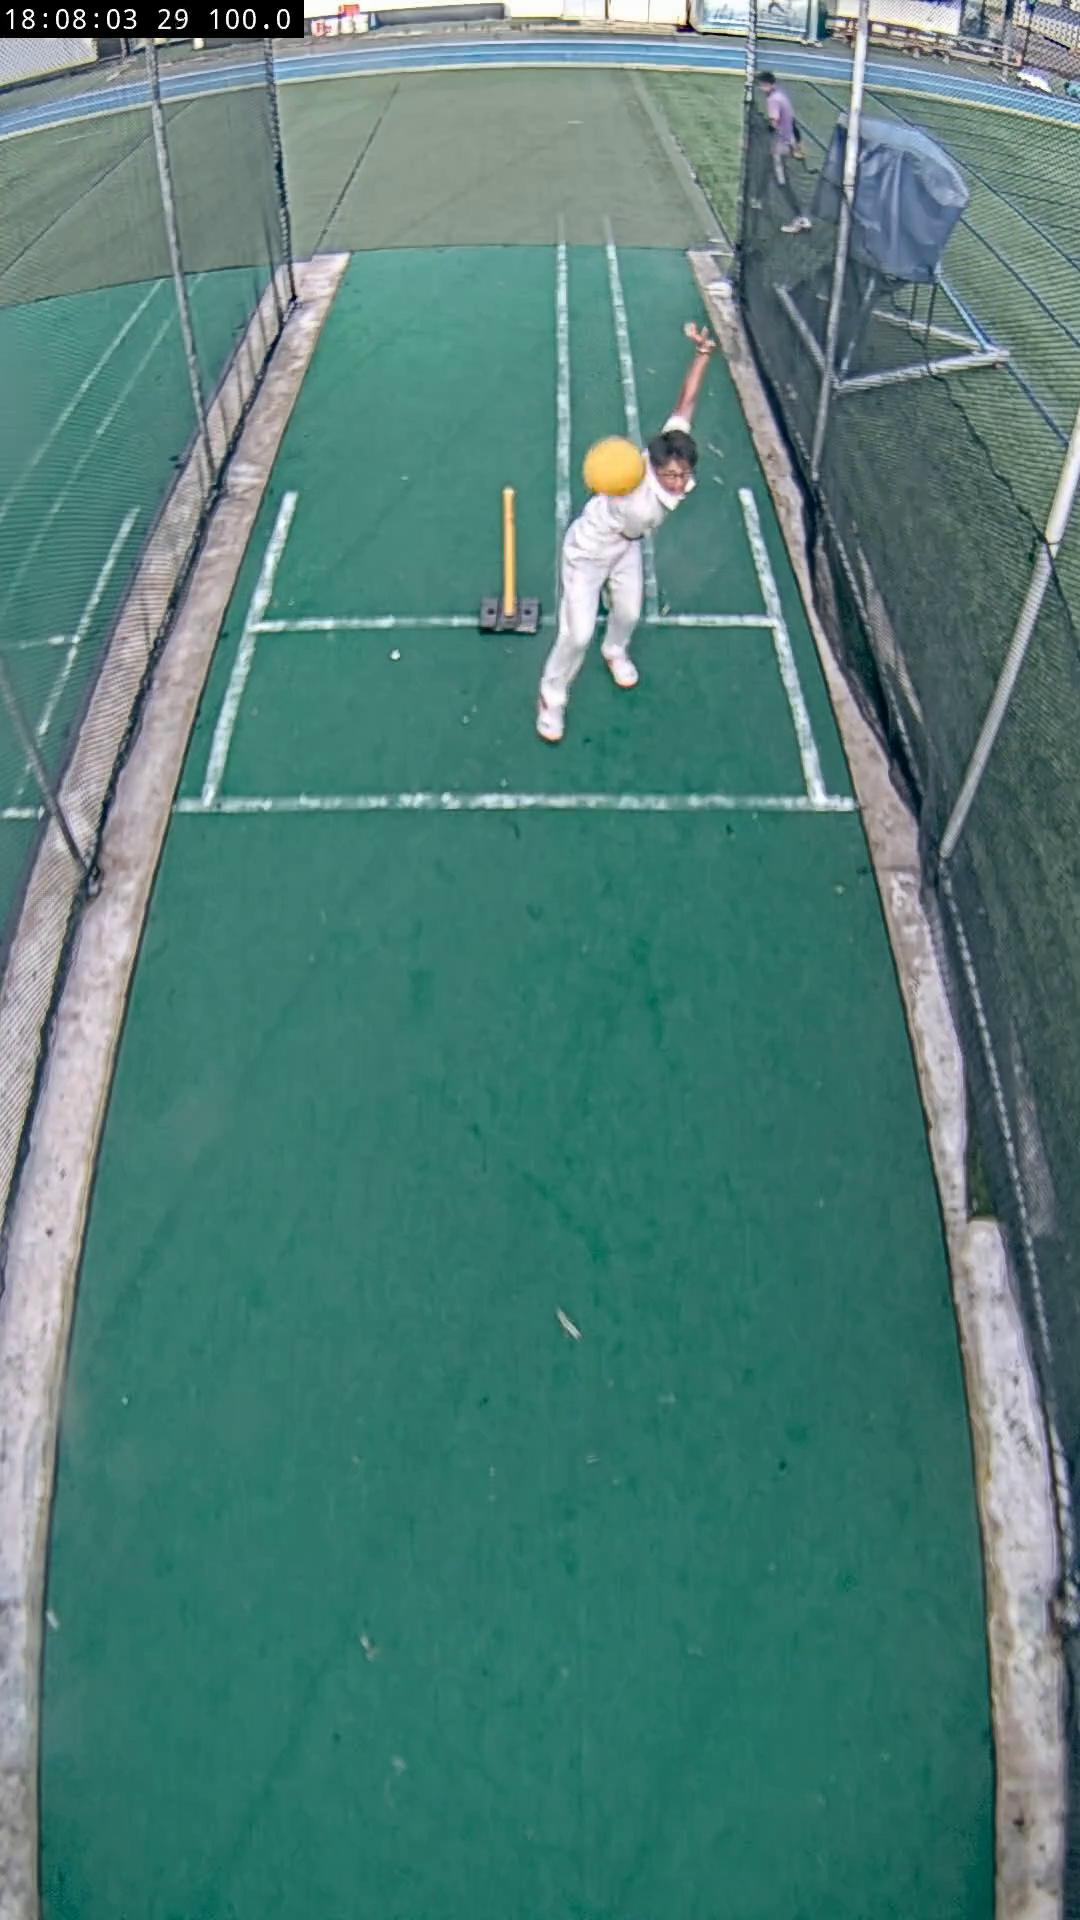ball: (582, 435, 645, 495)
stumps: (476, 488, 541, 634)
